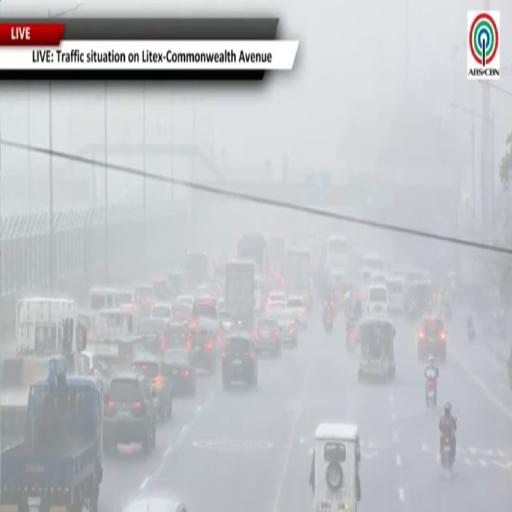car: (104, 374, 157, 454), (132, 356, 173, 422), (222, 332, 257, 388), (164, 348, 196, 396), (417, 316, 447, 361), (137, 317, 169, 356), (191, 327, 217, 374), (254, 316, 281, 356), (123, 496, 187, 511), (364, 284, 388, 316), (286, 296, 308, 330), (276, 313, 298, 346), (386, 277, 405, 314), (167, 323, 191, 351), (134, 284, 156, 313), (192, 295, 217, 318), (172, 302, 192, 324), (266, 291, 286, 312), (153, 279, 172, 301), (151, 303, 172, 321), (218, 311, 235, 332), (265, 301, 286, 315), (176, 295, 194, 308)
motorcycle: (441, 432, 455, 471), (441, 436, 454, 470), (426, 379, 437, 407), (346, 325, 357, 351), (324, 313, 333, 333), (445, 302, 452, 322), (468, 326, 476, 342), (508, 362, 511, 389)
truck: (0, 357, 103, 511), (0, 297, 86, 445), (225, 261, 254, 328), (237, 232, 268, 276), (286, 248, 311, 301), (186, 251, 209, 289), (267, 237, 285, 285)
